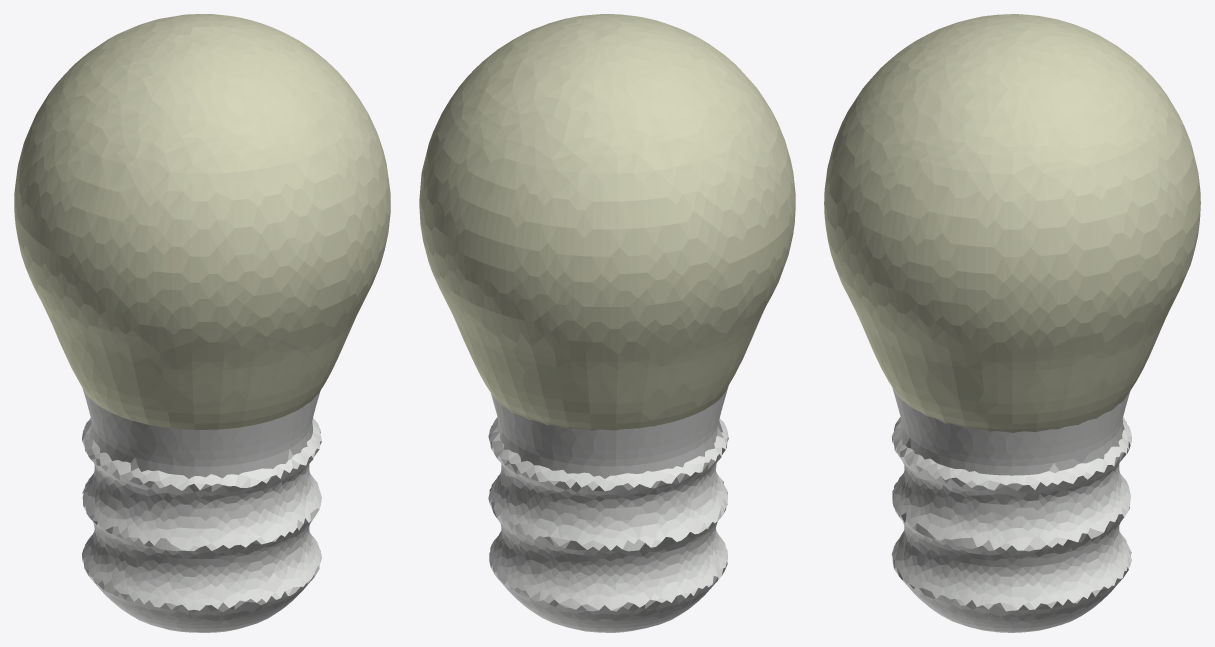
File: Adivinalo.glb
3 views of the same model, side by side, from view 1: azimuth 30°, elevation 25°; view 2: azimuth 150°, elevation 25°; view 3: azimuth 270°, elevation 25° (orthographic).
Parts seen in each view (by area): view 1: prim0, prim1; view 2: prim0, prim1; view 3: prim0, prim1.
Boxes of the visible parts, bbox=[...] form: prim0: bbox=[14, 14, 390, 429]; prim1: bbox=[82, 388, 321, 632]; prim0: bbox=[419, 14, 795, 430]; prim1: bbox=[488, 385, 728, 632]; prim0: bbox=[824, 14, 1200, 432]; prim1: bbox=[891, 388, 1131, 632].
Bounding box in the file's own units: 0.4616 × 0.7863 × 0.4619.
